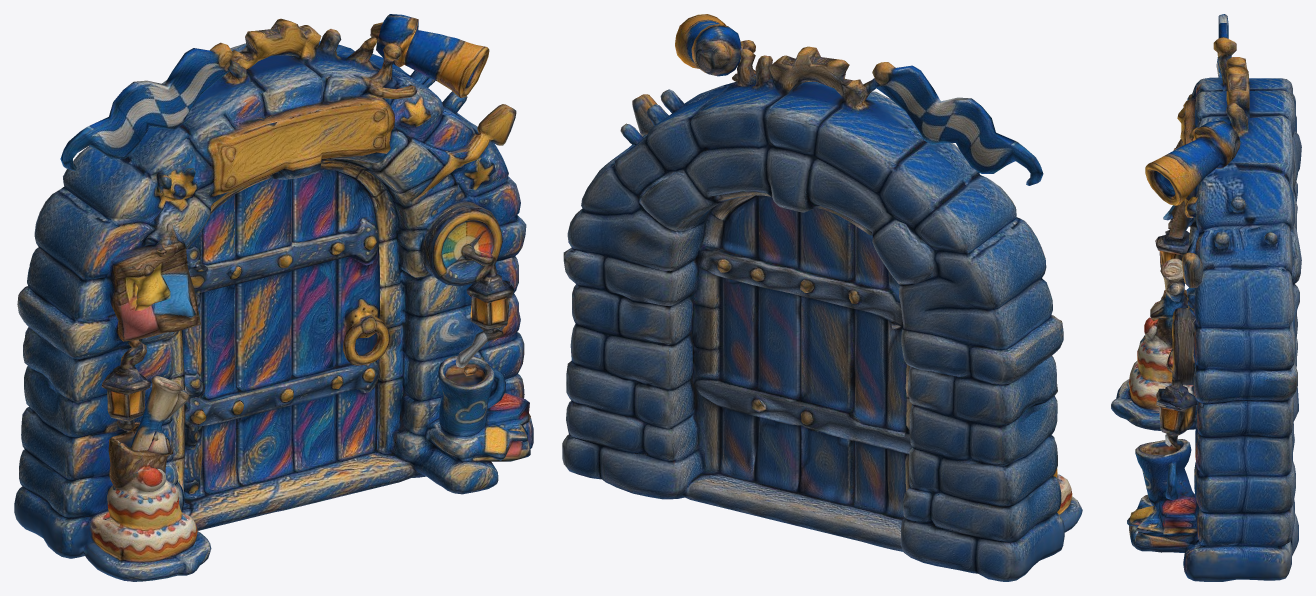
File: deur3d.glb
The picture shows the model from 3 angles, left to right: view 1: azimuth 30°, elevation 25°; view 2: azimuth 150°, elevation 25°; view 3: azimuth 270°, elevation 25°; orthographic projection. The views are drawn at different scales.
Parts seen in each view (by area): view 1: mesh_node; view 2: mesh_node; view 3: mesh_node.
Boxes of the visible parts, x1=… form: mesh_node: x1=14, y1=14, x2=533, y2=581; mesh_node: x1=562, y1=14, x2=1082, y2=581; mesh_node: x1=1111, y1=14, x2=1301, y2=581.
Size of the model in its own units: 2 by 1.92 by 0.7803.
1 material, 1 textured.
